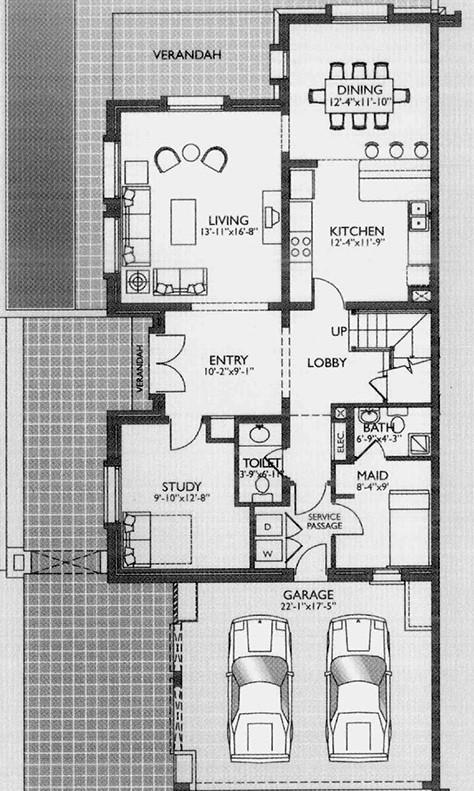wall: (429, 16, 440, 786), (112, 567, 293, 580), (281, 153, 291, 327), (106, 407, 123, 469), (228, 97, 289, 114), (323, 565, 376, 584), (231, 420, 242, 510), (106, 96, 164, 113), (106, 408, 166, 424), (106, 526, 122, 583), (112, 303, 189, 314), (279, 473, 296, 521), (234, 496, 294, 508), (329, 401, 431, 408), (348, 300, 431, 308), (106, 97, 120, 144), (105, 274, 119, 319), (347, 404, 358, 455), (282, 394, 293, 444), (329, 460, 342, 502), (152, 308, 172, 333), (287, 14, 337, 24), (234, 415, 287, 423), (282, 15, 293, 51), (406, 567, 432, 582), (269, 300, 312, 309), (383, 454, 431, 462), (329, 536, 340, 569), (281, 159, 316, 169), (153, 391, 165, 420), (203, 414, 216, 439), (205, 433, 235, 443), (332, 457, 355, 463)
